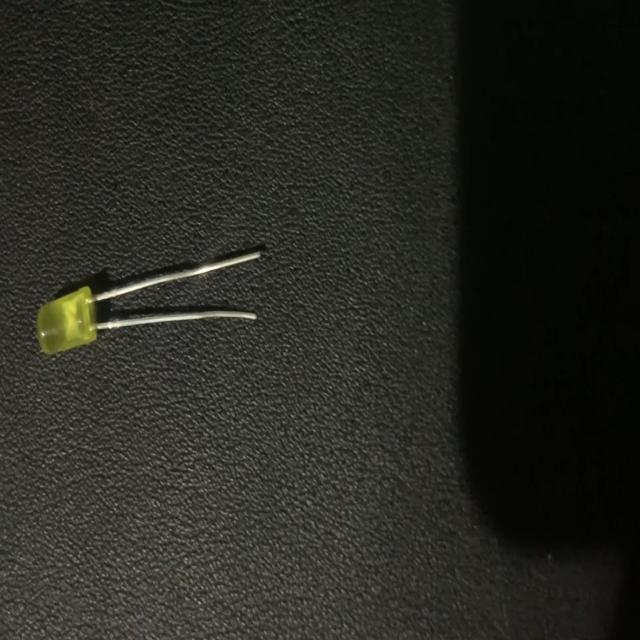LED: (34, 248, 261, 355)
